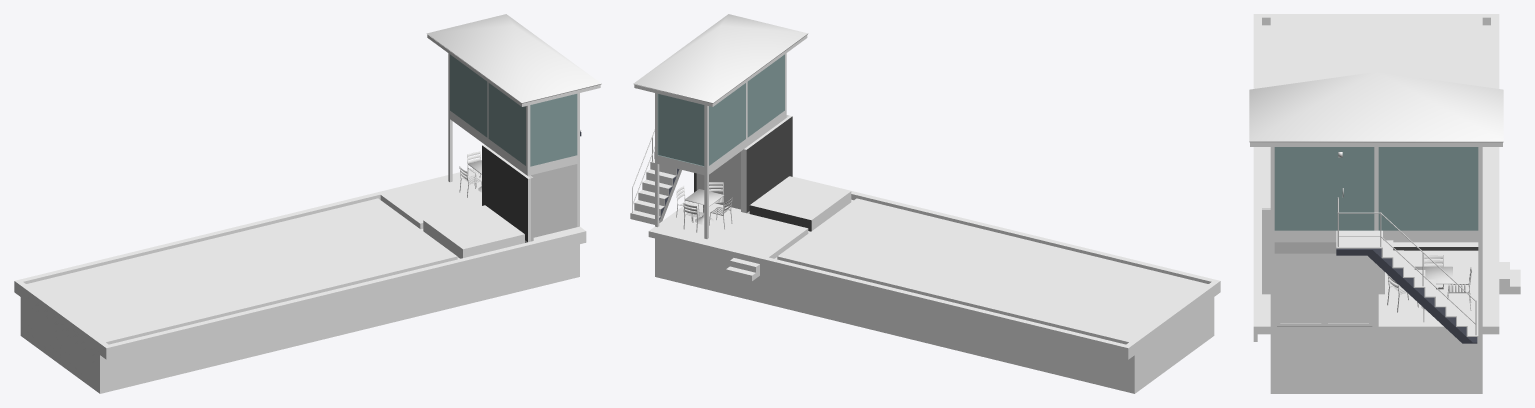
3 views of the same model, side by side, from view 1: azimuth 30°, elevation 25°; view 2: azimuth 150°, elevation 25°; view 3: azimuth 270°, elevation 25° (orthographic). The views are drawn at different scales.
Visible parts, largest first — view 1: Layer0_001, Group_002; view 2: Layer0_001, Group_002, Group_004; view 3: Layer0_001, Group_002, Group_001, Group_004, TableTop_001.
Part boxes in pixels (x1=…): Layer0_001: x1=14, y1=53, x2=586, y2=393; Group_002: x1=426, y1=14, x2=601, y2=106; Layer0_001: x1=648, y1=53, x2=1220, y2=393; Group_002: x1=633, y1=14, x2=808, y2=106; Group_004: x1=630, y1=151, x2=681, y2=224; Layer0_001: x1=1253, y1=14, x2=1520, y2=393; Group_002: x1=1249, y1=72, x2=1503, y2=146; Group_001: x1=1274, y1=253, x2=1374, y2=326; Group_004: x1=1336, y1=230, x2=1478, y2=343; TableTop_001: x1=1414, y1=266, x2=1452, y2=284.
Bounding box in the file's own units: 18400 × 7940 × 6400.
